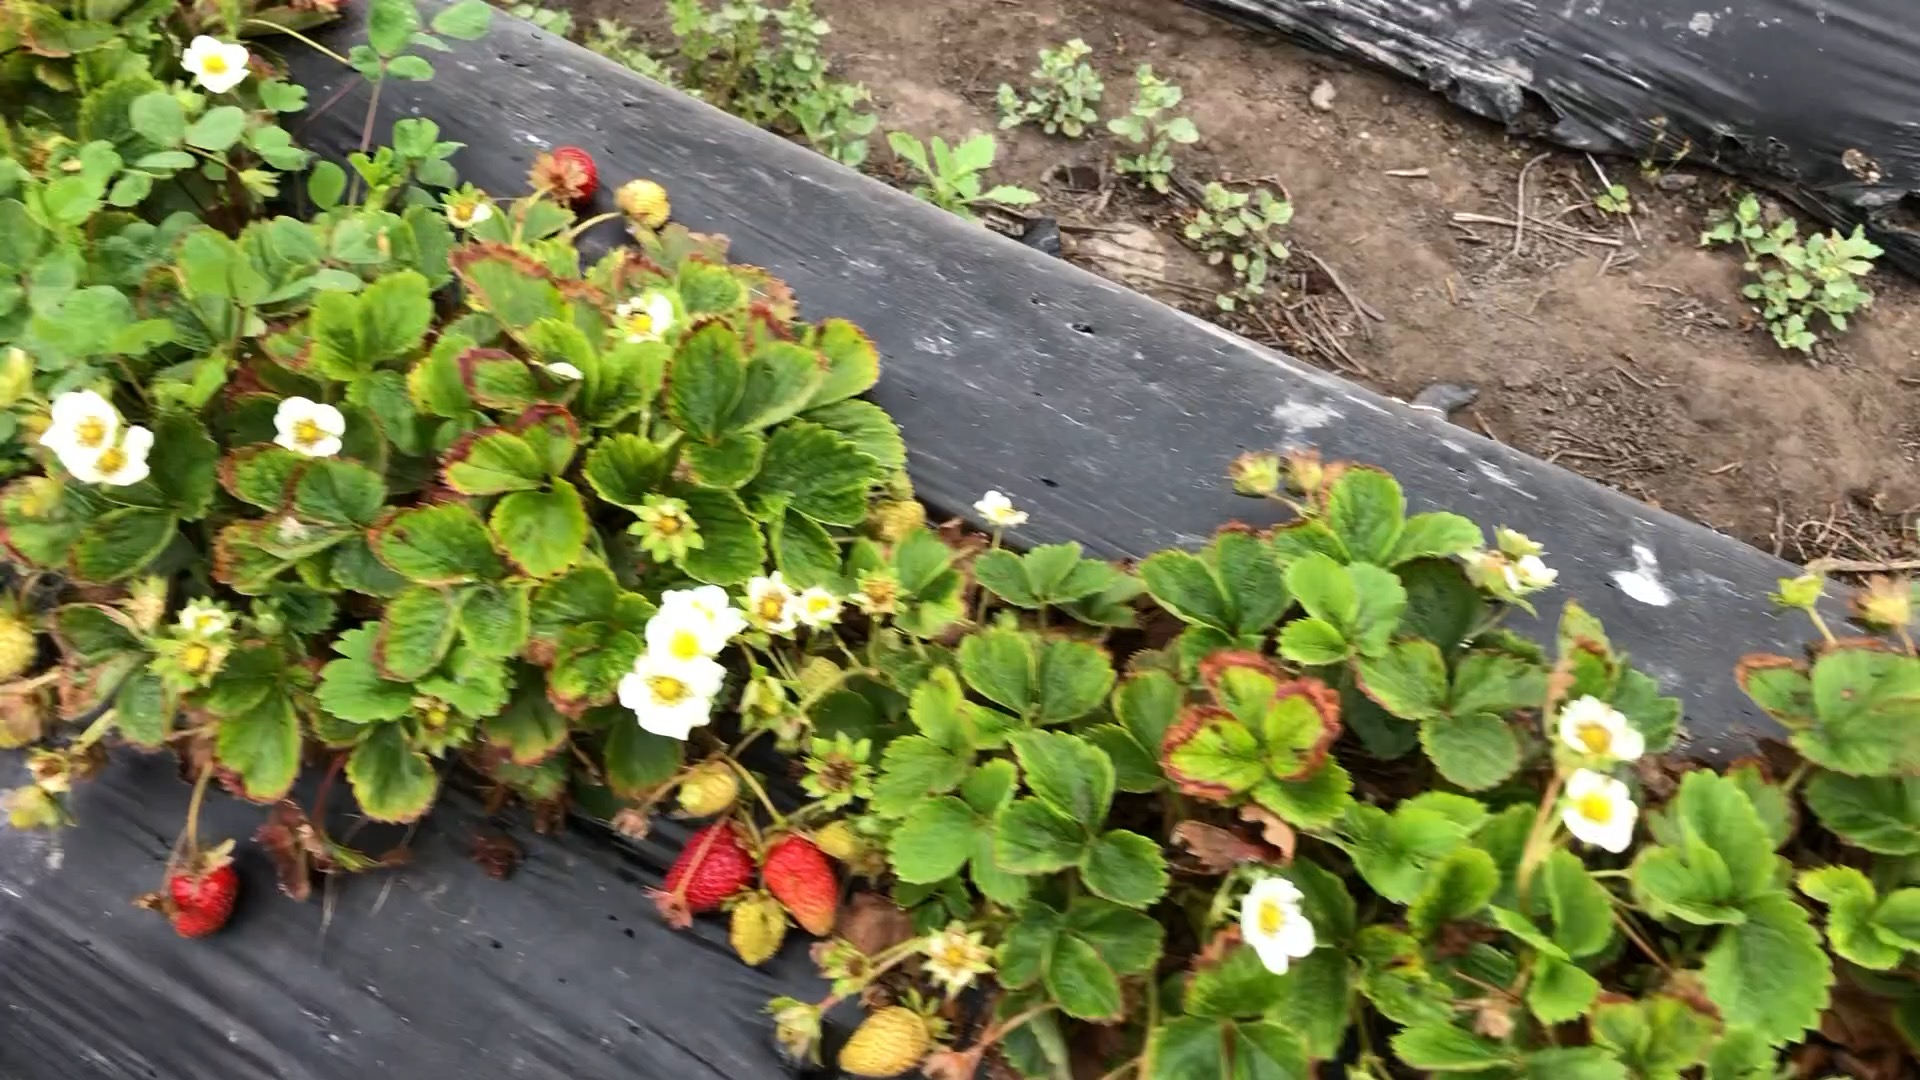ripe_strawberry: (659, 822, 762, 910), (165, 847, 239, 942), (545, 142, 601, 206)
unripe_strawberry: (760, 832, 840, 938), (836, 1005, 934, 1077), (728, 890, 787, 967), (680, 757, 742, 819), (611, 177, 676, 233), (819, 819, 877, 865)
